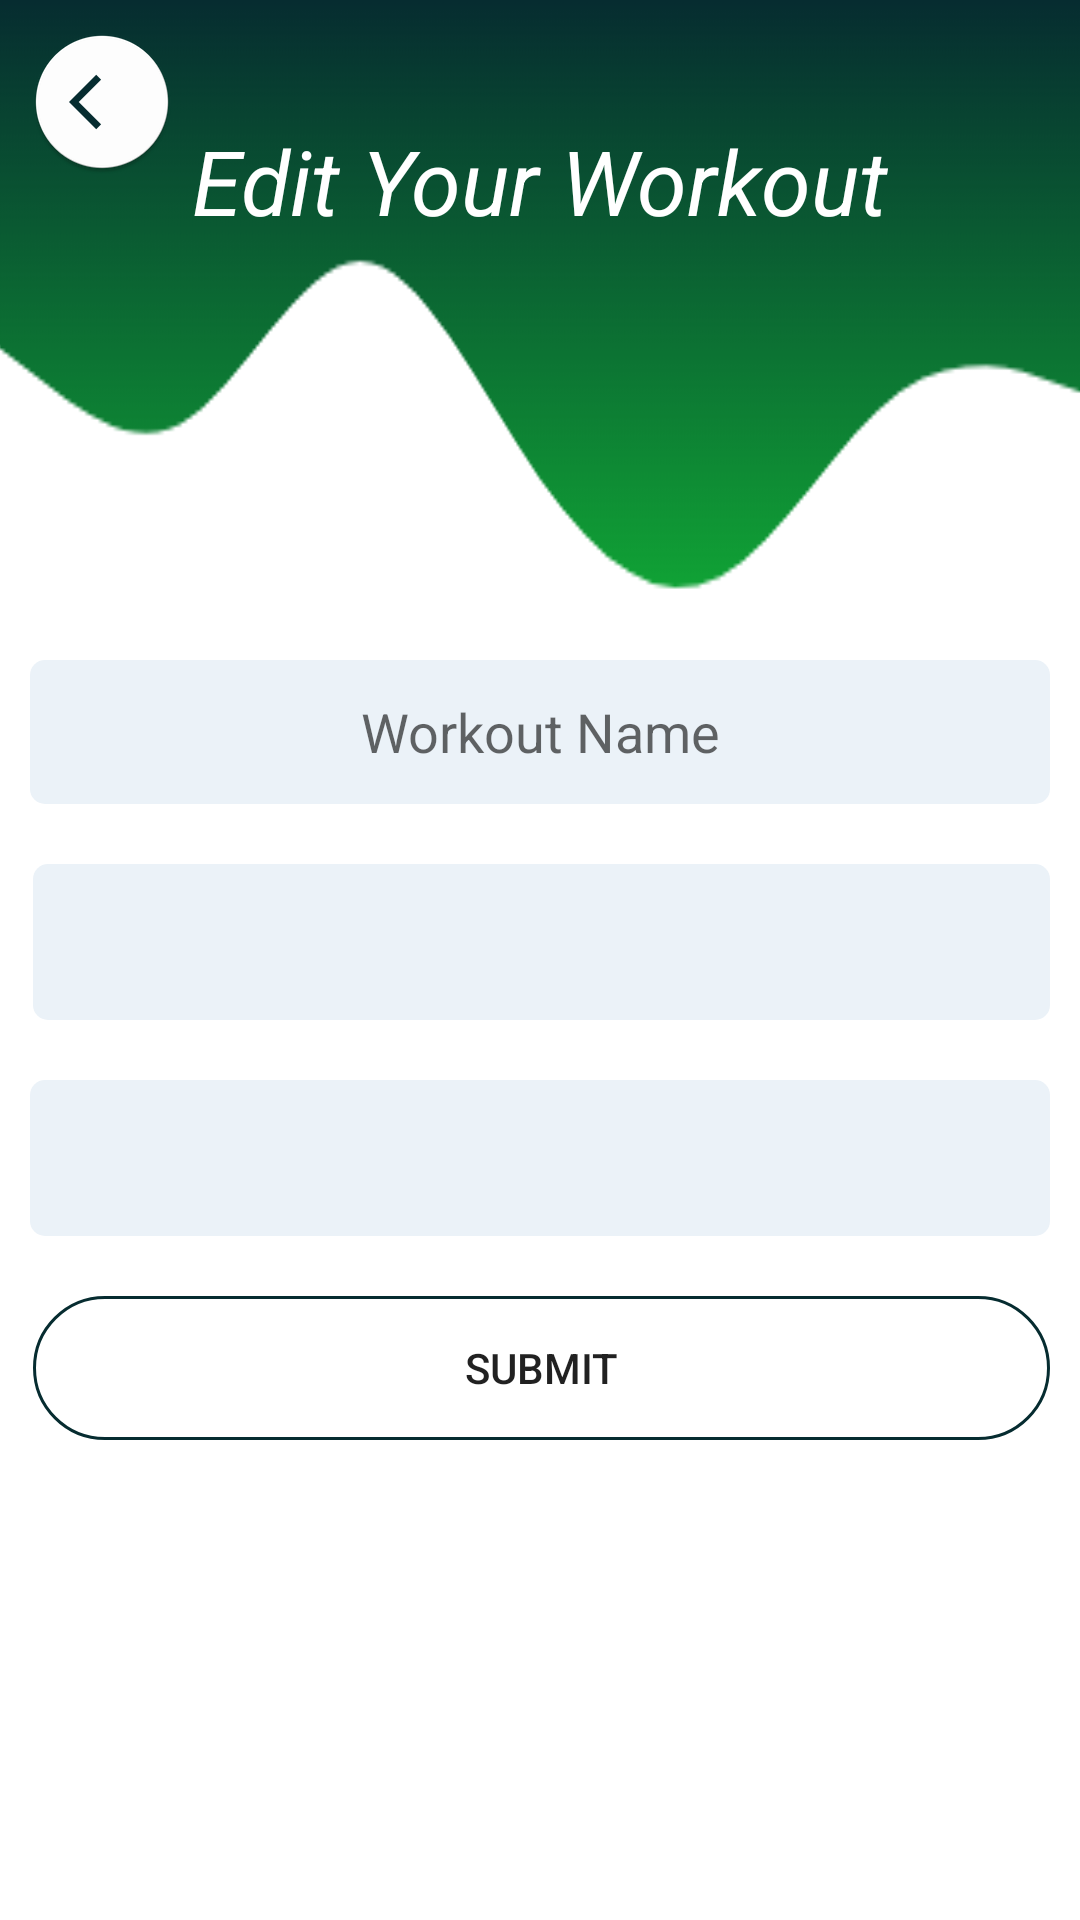

Where to tap for icons on this 1080w x 1920h app screen, as point (x, y):
back: point (102, 101)
